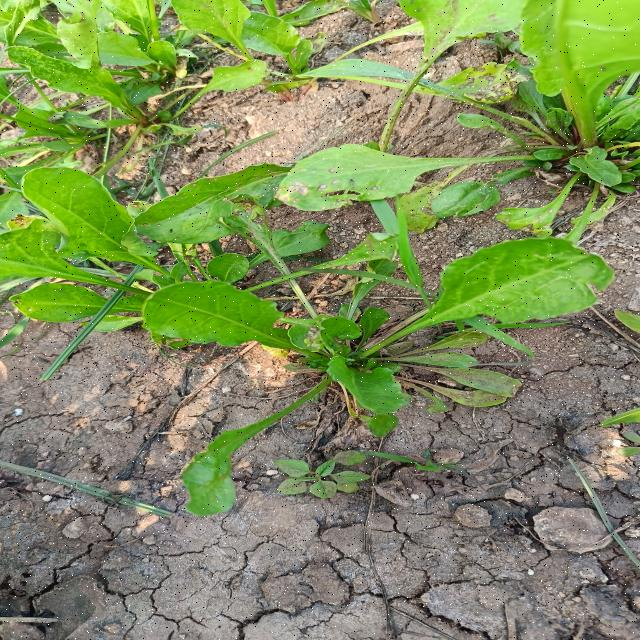leaves: (327, 226, 632, 382), (100, 264, 381, 383), (173, 360, 350, 517), (14, 161, 205, 306), (244, 132, 596, 207), (126, 162, 387, 242), (1, 216, 211, 312), (275, 357, 448, 436), (10, 281, 149, 341)
